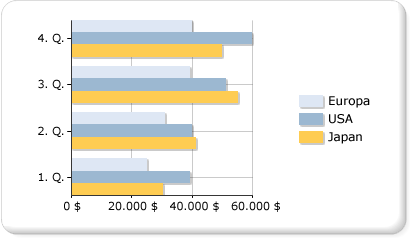canvas: (73, 18, 247, 194)
legend: (297, 90, 373, 153)
x-axis: (68, 194, 257, 199)
x-labels: (62, 201, 286, 213)
y-axis: (66, 18, 74, 203)
y-labels: (35, 29, 65, 186)
